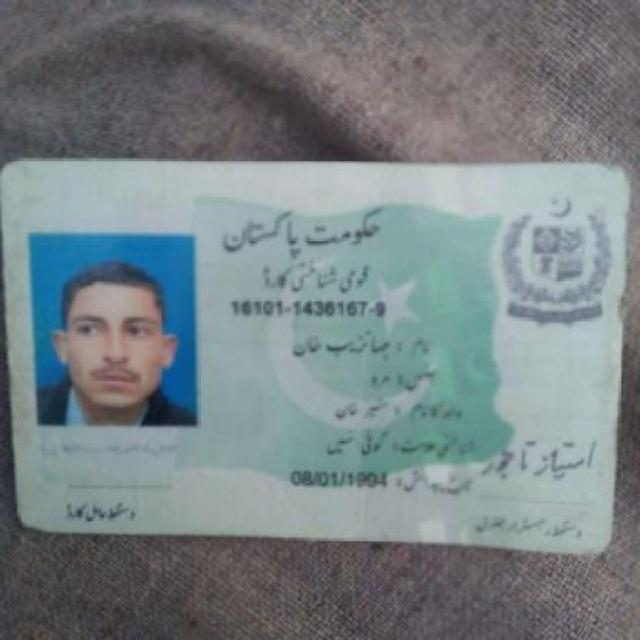Front: (6, 145, 631, 564)
